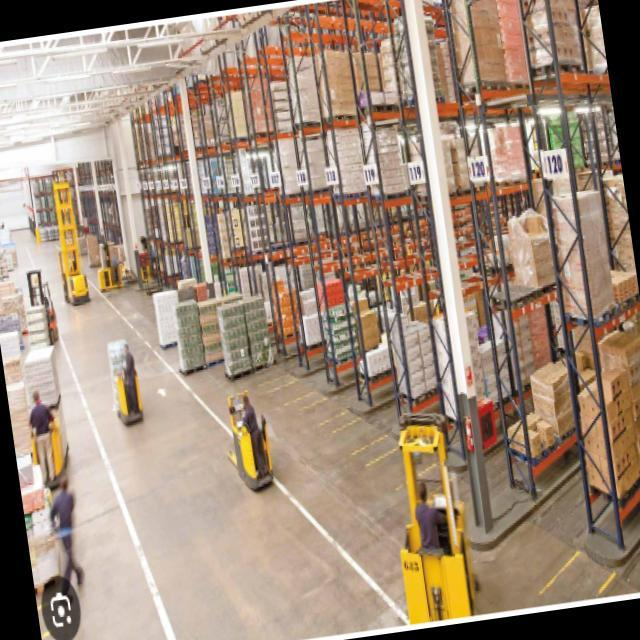shoes: (57, 564, 91, 606), (127, 404, 139, 414), (257, 471, 267, 480)
